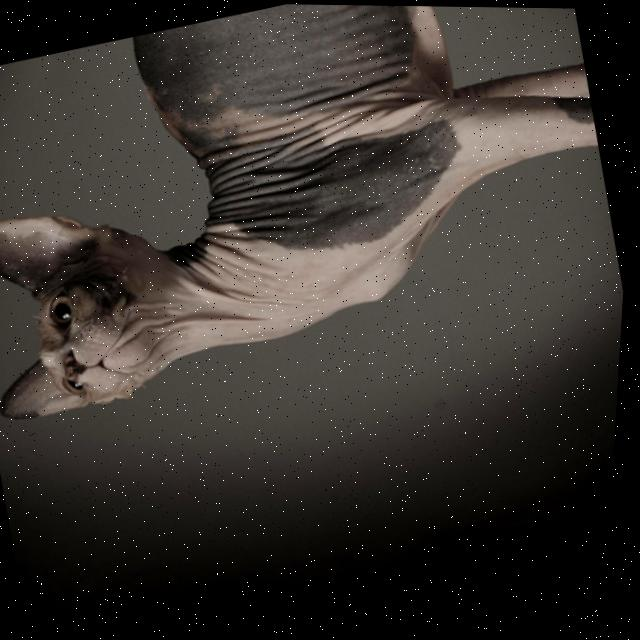Sphynx: (0, 0, 640, 438)
